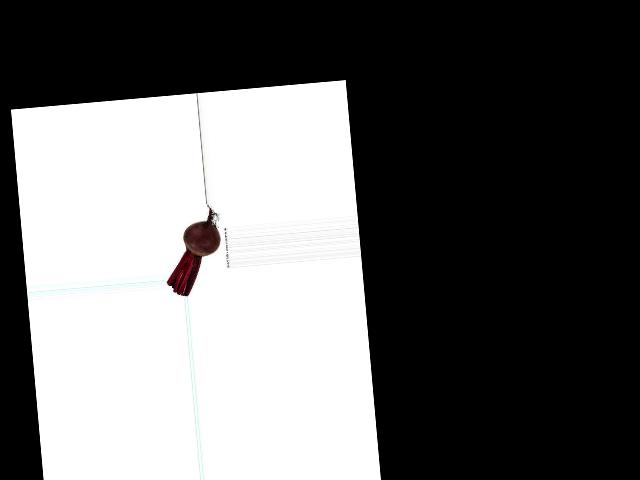beet: (161, 204, 225, 298)
